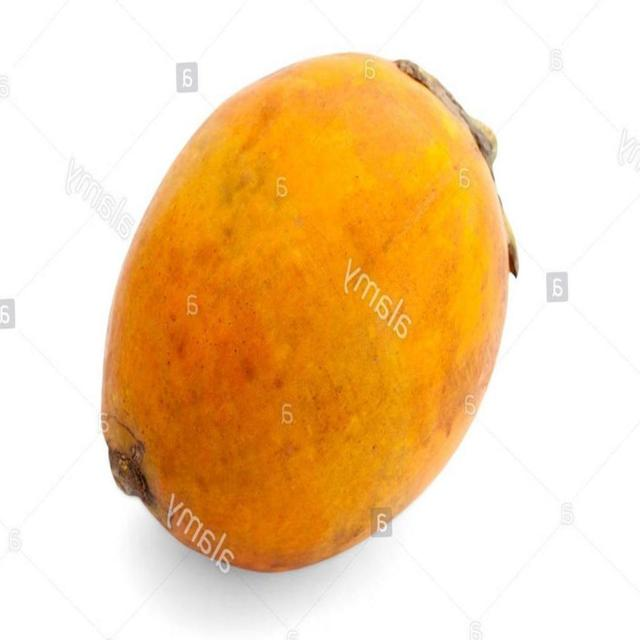good: (98, 52, 517, 576)
